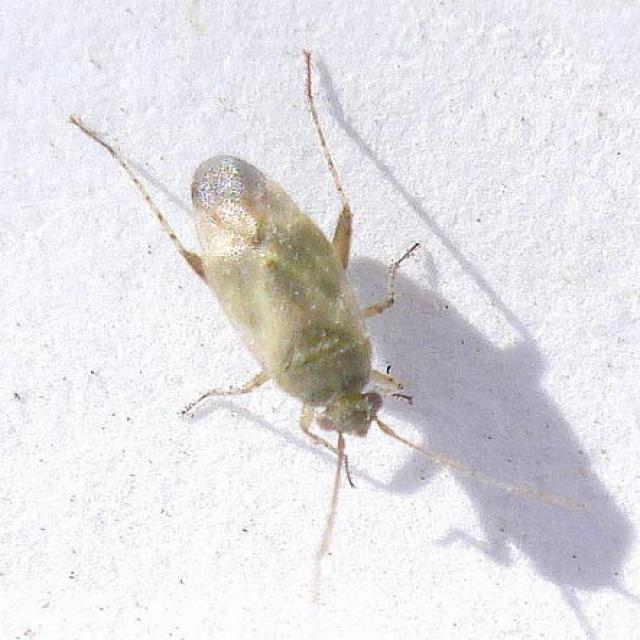Miridae-Adult-: (52, 46, 472, 484)
